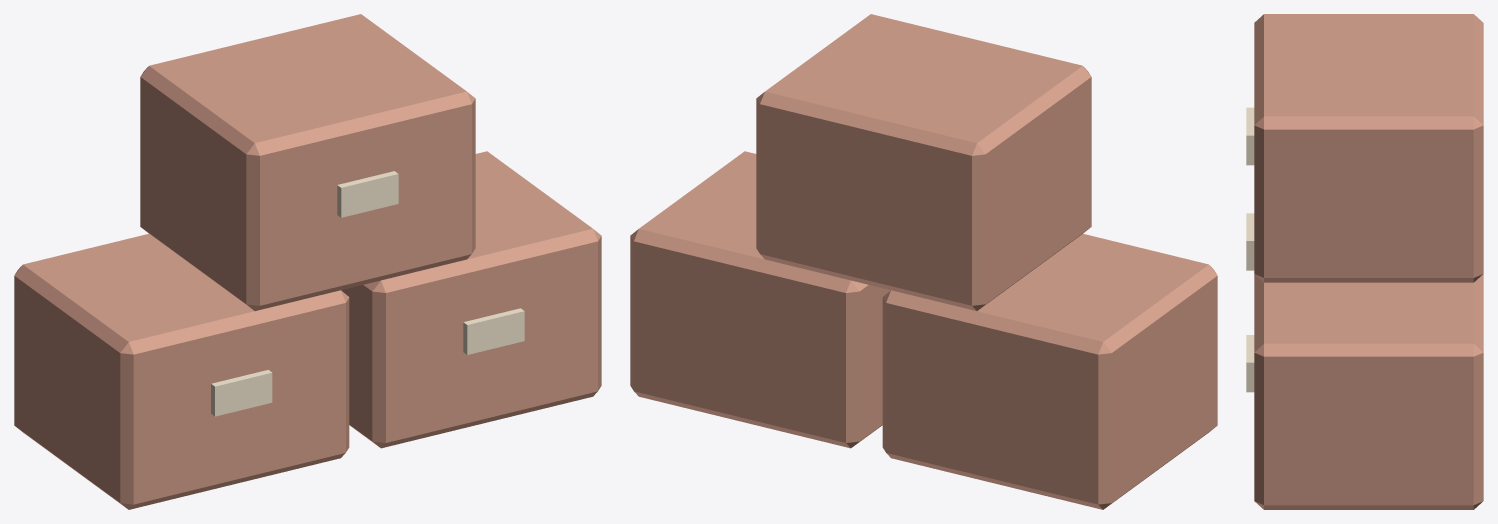
The picture shows the model from 3 angles, left to right: view 1: azimuth 30°, elevation 25°; view 2: azimuth 150°, elevation 25°; view 3: azimuth 270°, elevation 25°; orthographic projection.
Parts seen in each view (by area): view 1: Stacked case.002, Stacked case, Stacked case.001, Case label.002, Case label.001, Case label; view 2: Stacked case.002, Stacked case, Stacked case.001; view 3: Stacked case.002, Stacked case.001, Case label.002, Case label, Case label.001.
Boxes of the visible parts, box(x1,y1,x2,y2) form: Stacked case.002: box(140, 14, 475, 310); Stacked case: box(14, 234, 349, 509); Stacked case.001: box(341, 151, 601, 448); Case label.002: box(337, 171, 398, 217); Case label.001: box(463, 308, 524, 354); Case label: box(211, 370, 272, 416); Stacked case.002: box(756, 14, 1091, 310); Stacked case: box(882, 234, 1217, 509); Stacked case.001: box(630, 151, 890, 448); Stacked case.002: box(1254, 14, 1483, 282); Stacked case.001: box(1254, 274, 1483, 509); Case label.002: box(1246, 107, 1254, 165); Case label: box(1246, 213, 1254, 270); Case label.001: box(1246, 335, 1254, 392).
Size of the model in its own units: 0.84 by 0.56 by 0.362.
Materials: 1 (1 with a texture image).
